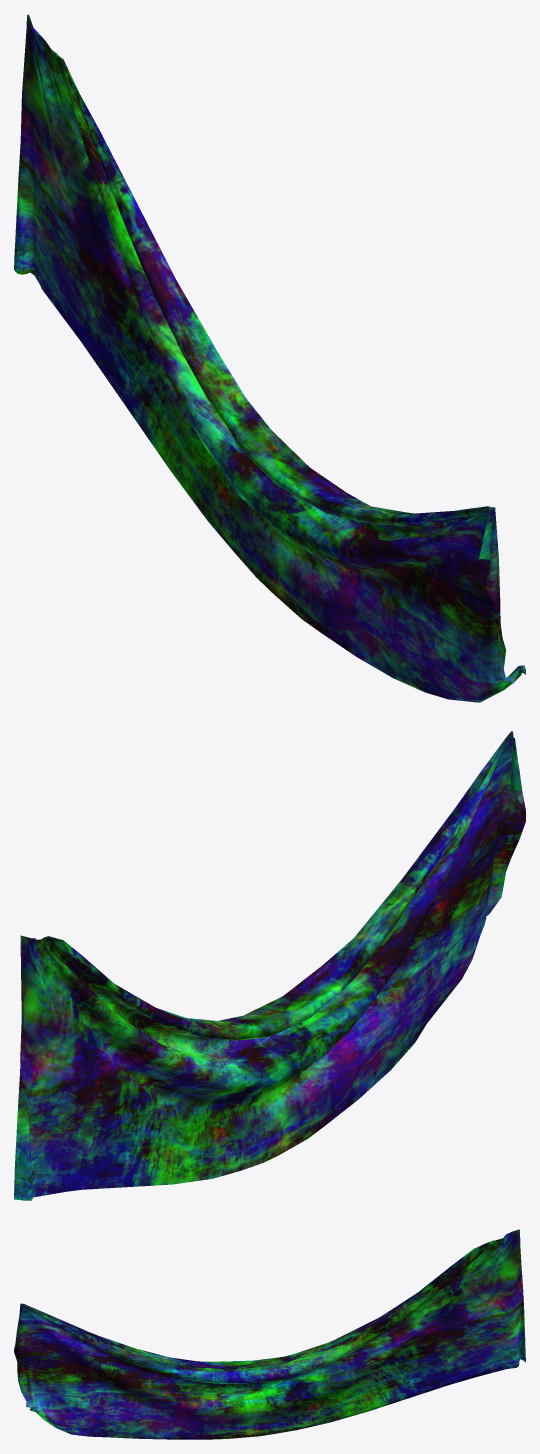
File: SM_ShipCloth.fbx
3 renders of one model, top to bottom at view 1: azimuth 30°, elevation 25°; view 2: azimuth 150°, elevation 25°; view 3: azimuth 270°, elevation 25°, orthographic. The views are drawn at different scales.
Visible parts, largest first — view 1: SM_ShipCloth_LOD0; view 2: SM_ShipCloth_LOD0; view 3: SM_ShipCloth_LOD0.
Part boxes in pixels (x1,y1,x2,y2): SM_ShipCloth_LOD0: (14, 14, 525, 702); SM_ShipCloth_LOD0: (14, 731, 525, 1200); SM_ShipCloth_LOD0: (14, 1229, 525, 1439).
Size of the model in its own units: 60.69 by 875 by 398.
Materials: 1 (1 with a texture image).
